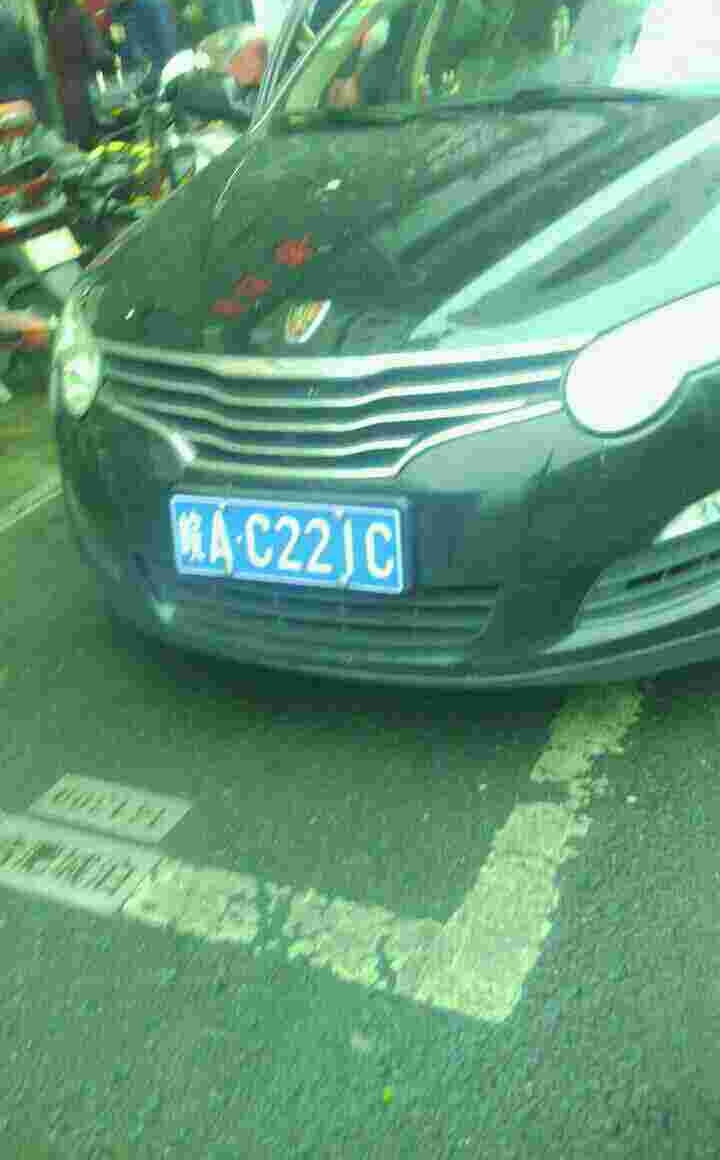plate: (169, 489, 406, 597)
